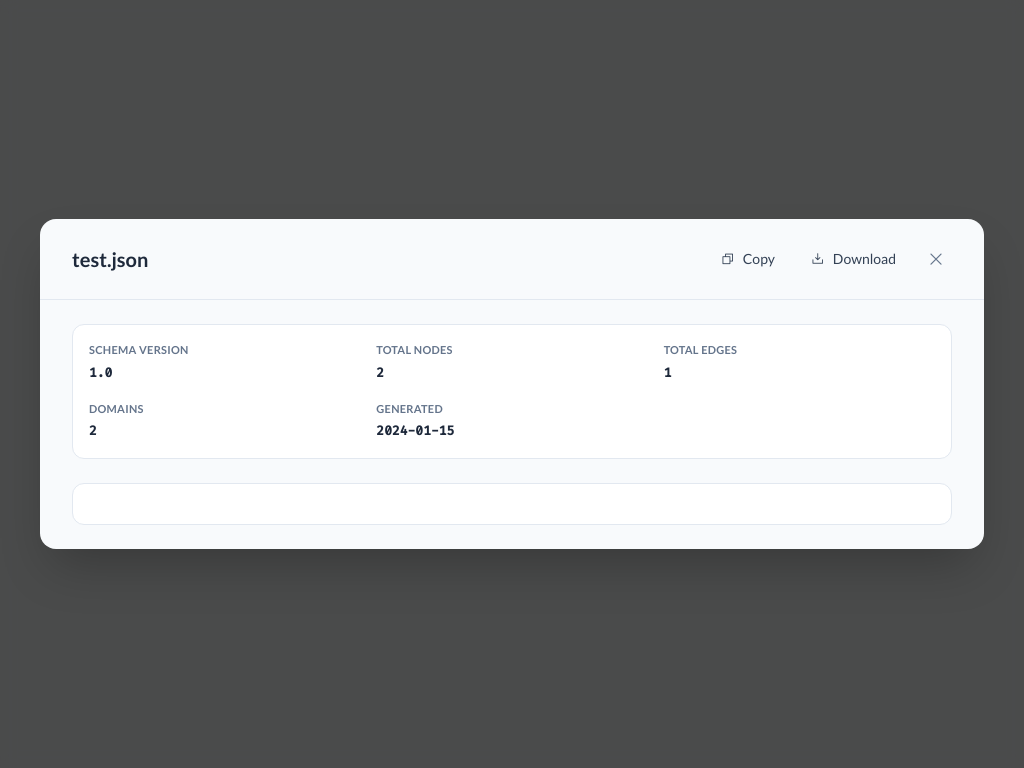
Scenario: SchemaModal › when open › copy functionality › shows success feedback after copy
Click the button "Copy": (748, 259) [709, 243, 787, 275]
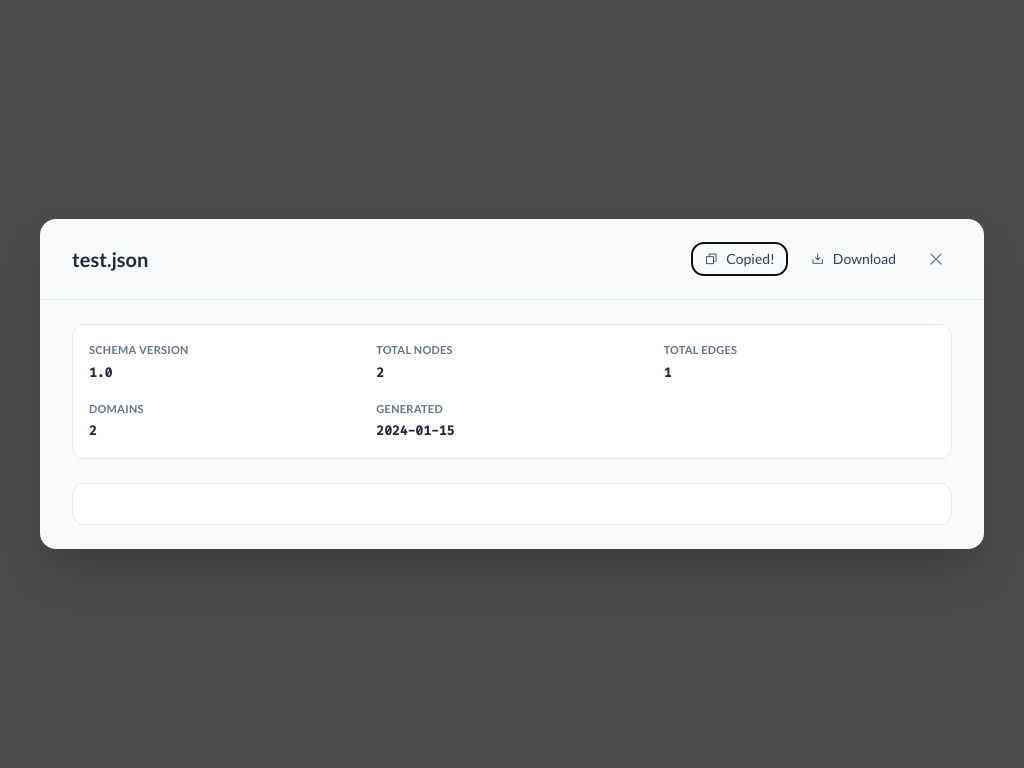
Check: the button "Copied!" is shown, box [692, 243, 787, 275]
